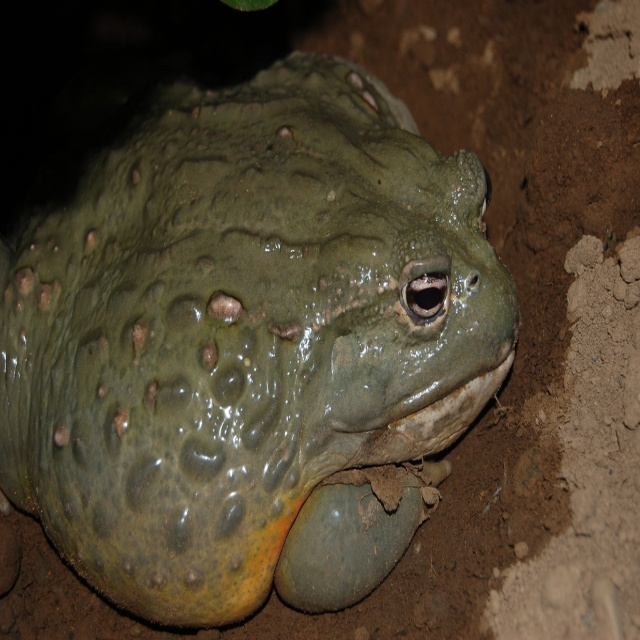Frog: (0, 48, 521, 630)
